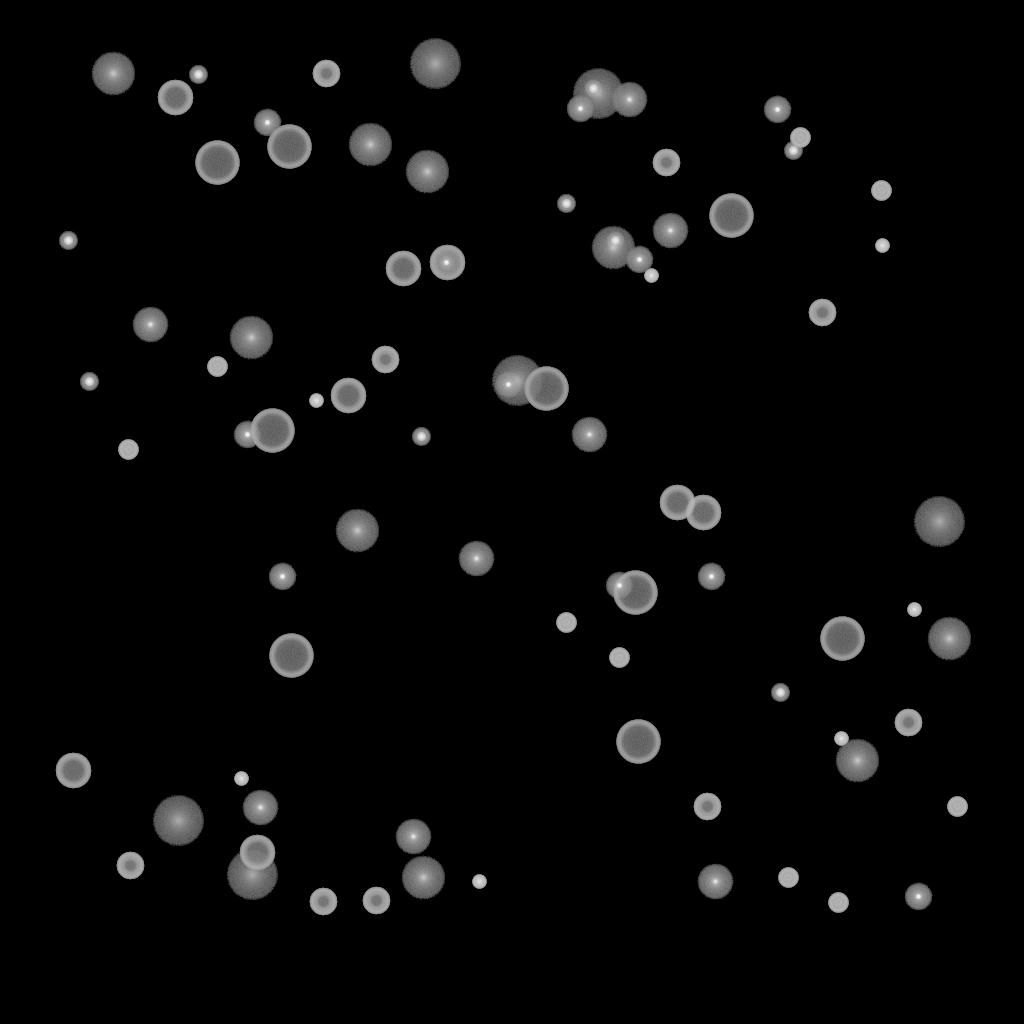depth:-10: (605, 572, 633, 600), (697, 563, 725, 591), (253, 109, 281, 137), (904, 883, 932, 911), (432, 249, 460, 277), (233, 421, 261, 449), (268, 563, 296, 591), (763, 96, 791, 124), (494, 371, 522, 399), (625, 246, 653, 274), (566, 95, 594, 123)
depth:-20: (784, 142, 802, 160), (412, 428, 430, 446), (584, 80, 602, 98), (606, 232, 624, 250), (59, 232, 77, 250), (771, 684, 789, 702), (189, 66, 207, 84), (80, 373, 98, 391), (557, 195, 575, 213)
depth:-30: (472, 875, 486, 889), (309, 394, 323, 408), (644, 269, 658, 283), (234, 772, 248, 786), (875, 239, 889, 253), (907, 603, 921, 617), (834, 732, 848, 746)
depth:-40: (871, 181, 891, 201), (207, 357, 227, 377), (118, 440, 138, 460), (790, 128, 810, 148), (778, 868, 798, 888), (609, 648, 629, 668), (828, 893, 848, 913), (947, 797, 967, 817), (556, 613, 576, 633)
depth:-50: (808, 299, 836, 327), (312, 60, 340, 88), (894, 709, 922, 737), (362, 887, 390, 915), (309, 888, 337, 916), (652, 149, 680, 177), (116, 852, 144, 880), (371, 346, 399, 374), (693, 793, 721, 821)
depth:-60: (659, 485, 695, 521), (157, 80, 193, 116), (330, 378, 366, 414), (239, 835, 275, 871), (685, 495, 721, 531), (429, 245, 465, 281), (55, 753, 91, 789), (385, 251, 421, 287)
depth:-70: (195, 141, 239, 185), (616, 720, 660, 764), (269, 634, 313, 678), (820, 617, 864, 661), (250, 409, 294, 453), (709, 194, 753, 238), (267, 125, 311, 169), (613, 571, 657, 615), (524, 367, 568, 411)
depth:0: (697, 864, 733, 900), (611, 82, 647, 118), (571, 417, 607, 453), (242, 790, 278, 826), (395, 819, 431, 855), (652, 213, 688, 249), (132, 307, 168, 343), (458, 541, 494, 577)
depth:10: (348, 123, 392, 167), (401, 856, 445, 900), (927, 617, 971, 661), (91, 52, 135, 96), (229, 316, 273, 360), (405, 150, 449, 194), (335, 509, 379, 553), (591, 226, 635, 270), (835, 739, 879, 783)
depth:20: (491, 356, 543, 406), (913, 497, 965, 547), (409, 39, 461, 89), (152, 796, 204, 846), (572, 69, 624, 119), (226, 850, 278, 900)
